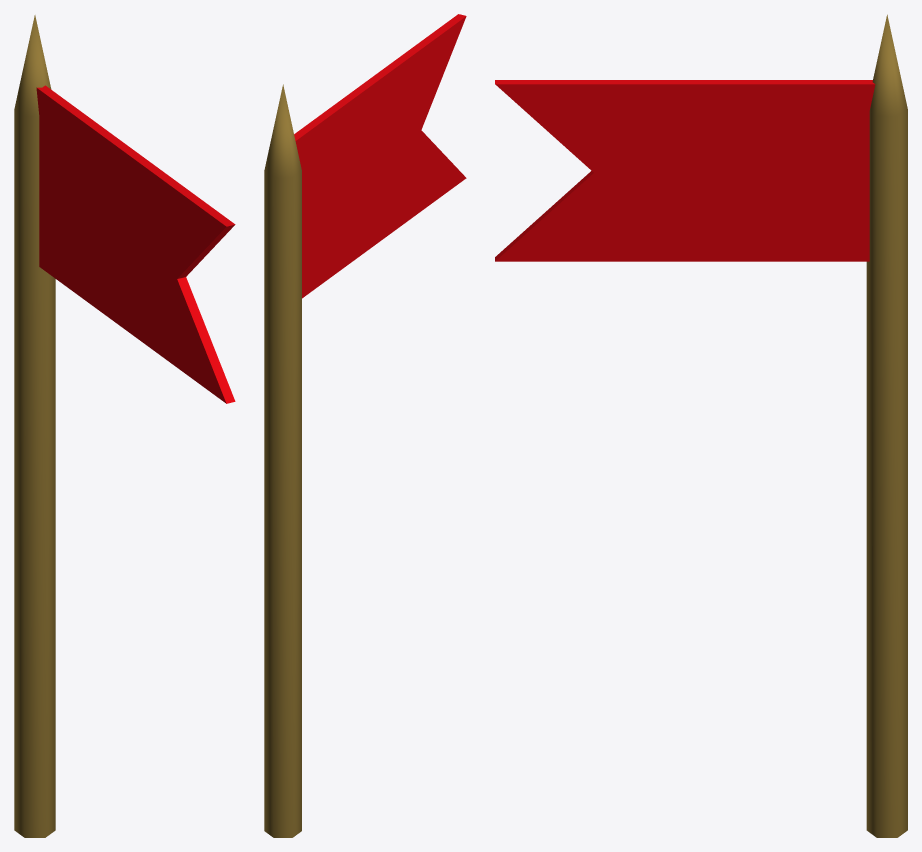
Rendered from flag.fbx.
The picture shows the model from 3 angles, left to right: view 1: azimuth 30°, elevation 25°; view 2: azimuth 150°, elevation 25°; view 3: azimuth 270°, elevation 25°; orthographic projection. The views are drawn at different scales.
Parts seen in each view (by area): view 1: fahne; view 2: fahne; view 3: fahne.
Part boxes in pixels (left/top/right/bottom): fahne: left=14, top=15, right=235, bottom=837; fahne: left=264, top=14, right=466, bottom=837; fahne: left=495, top=14, right=907, bottom=837.
Bounding box in the file's own units: 0.9087 × 22.96 × 10.52.
